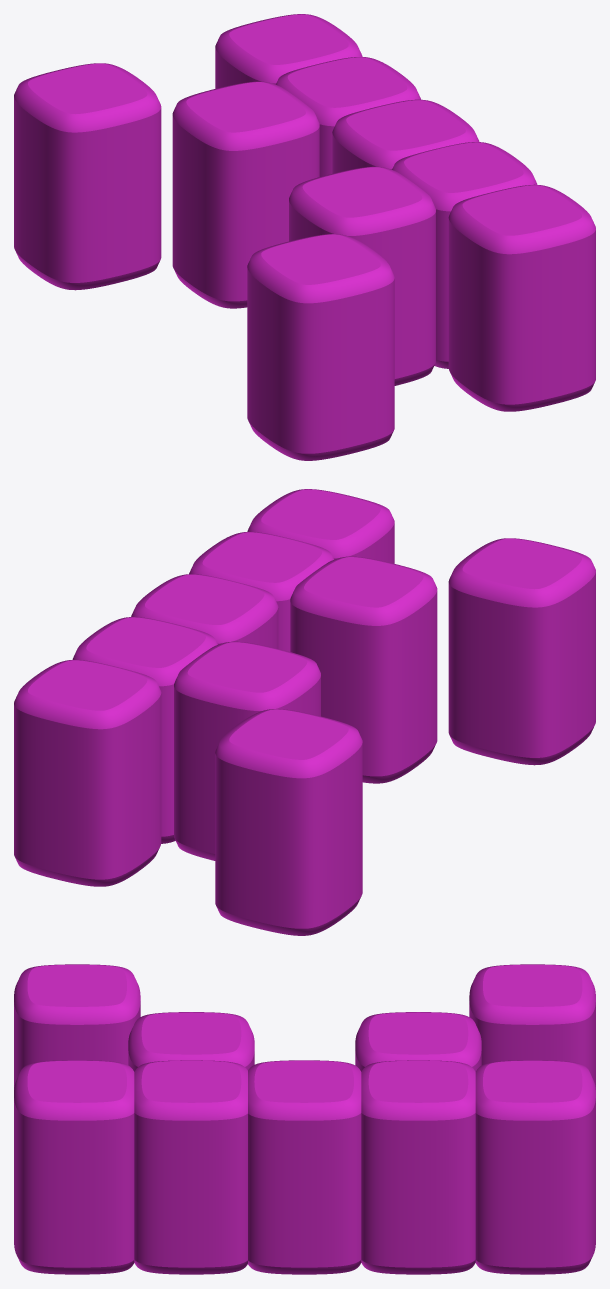
Rendered from Letter_k_Small.fbx.
3 renders of one model, top to bottom at view 1: azimuth 30°, elevation 25°; view 2: azimuth 150°, elevation 25°; view 3: azimuth 270°, elevation 25°, orthographic. The views are drawn at different scales.
Visible parts, largest first — view 1: Letter_k; view 2: Letter_k; view 3: Letter_k.
Part boxes in pixels (x1=…): Letter_k: x1=14, y1=14, x2=595, y2=460; Letter_k: x1=14, y1=489, x2=595, y2=935; Letter_k: x1=14, y1=964, x2=595, y2=1274.
Bounding box in the file's own units: 0.2619 × 0.14 × 0.4311.
